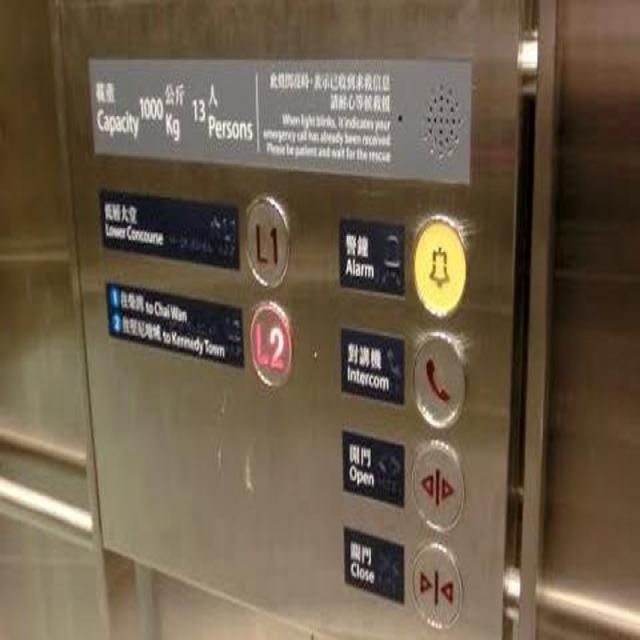L1: (243, 193, 291, 287)
L2: (248, 299, 292, 388)
alarm: (408, 212, 467, 317)
call: (411, 332, 466, 427)
close: (408, 540, 463, 628)
open: (410, 439, 464, 532)
